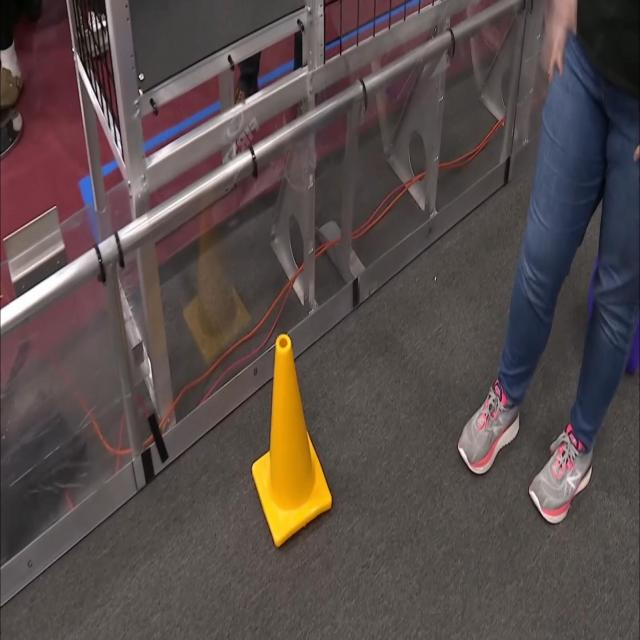frc_cone: (250, 333, 332, 547)
